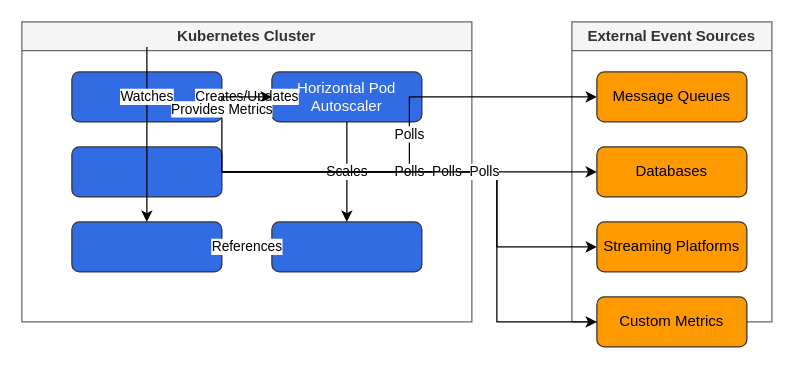
This 794x369 diagram has some shape labels left out. The shapes that lost their labels are listed below. From the top down, each one's box as (x1, y1, x2, y2) in pixels, then its label:
(71, 71, 222, 122): KEDA Operator
(71, 146, 222, 197): KEDA Metrics Server
(71, 221, 222, 272): ScaledObject / ScaledJob
(271, 221, 422, 272): Deployment / Job
